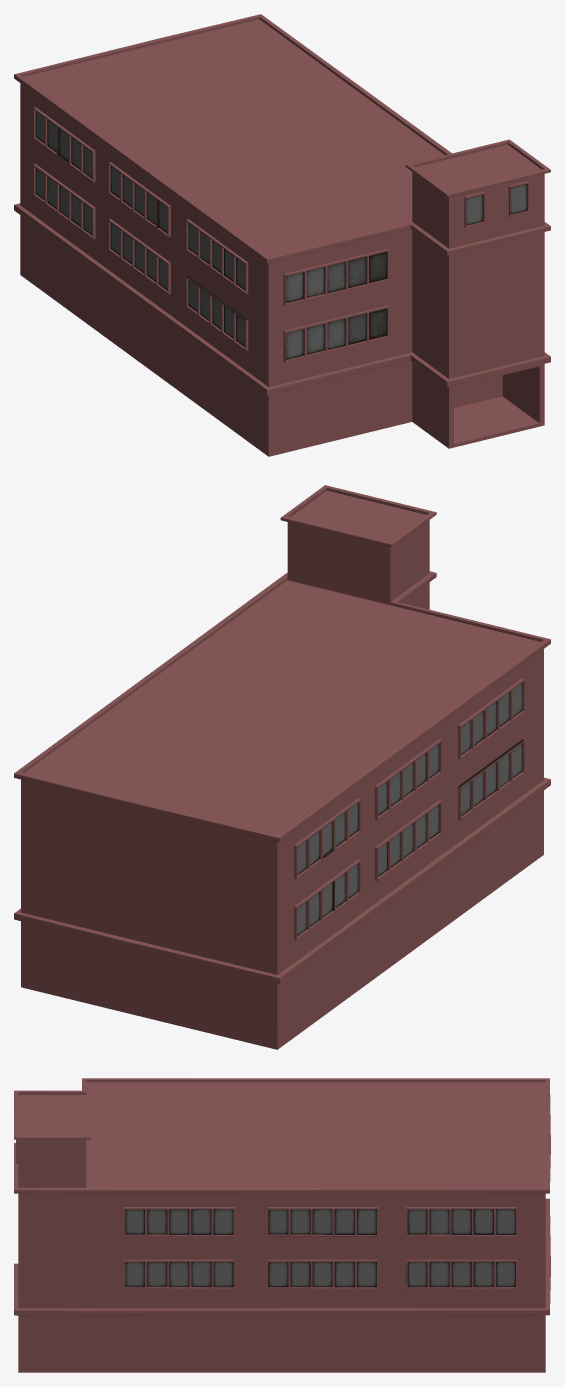
Rendered from Building_1.fbx.
3 renders of one model, top to bottom at view 1: azimuth 30°, elevation 25°; view 2: azimuth 150°, elevation 25°; view 3: azimuth 270°, elevation 25°, orthographic. The views are drawn at different scales.
Parts seen in each view (by area): view 1: Building1; view 2: Building1; view 3: Building1.
Boxes of the visible parts, box(x1,y1,x2,y2) form: Building1: box(14, 14, 550, 456); Building1: box(14, 485, 550, 1049); Building1: box(14, 1078, 550, 1372).
Size of the model in its own units: 10.38 by 10.26 by 21.05.
